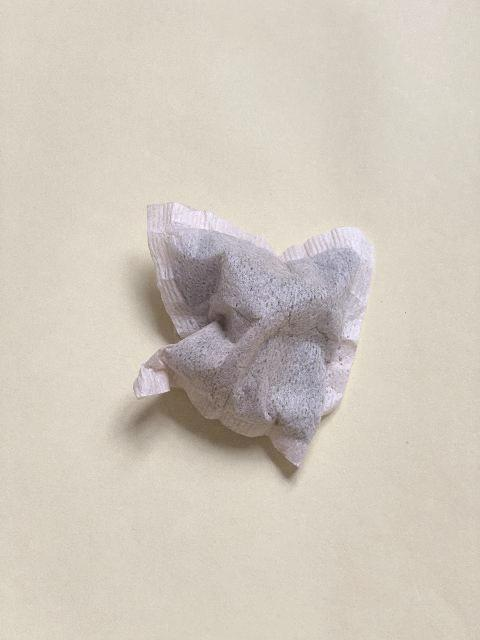teabag: (132, 199, 376, 471)
